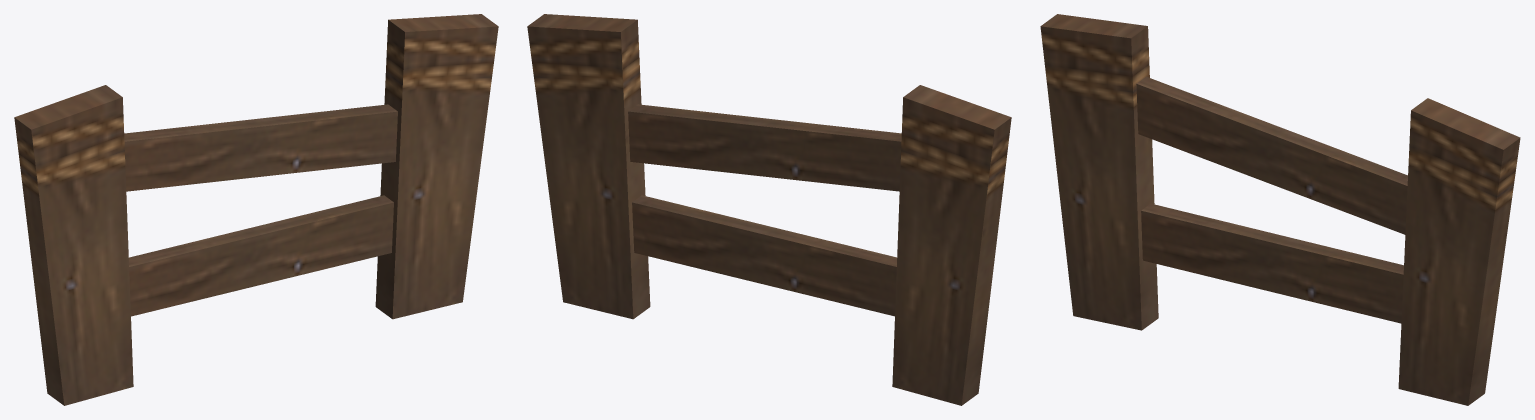
File: fence_metal_4.FBX
3 renders of one model, left to right at view 1: azimuth 30°, elevation 25°; view 2: azimuth 150°, elevation 25°; view 3: azimuth 330°, elevation 25°, orthographic.
Visible parts, largest first — view 1: Object037; view 2: Object037; view 3: Object037.
Part boxes in pixels (x1,y1,x2,y2): Object037: (14,14,498,405); Object037: (527,14,1011,405); Object037: (1040,14,1520,405).
Bounding box in the file's own units: 50.27 × 3.17 × 30.26.
